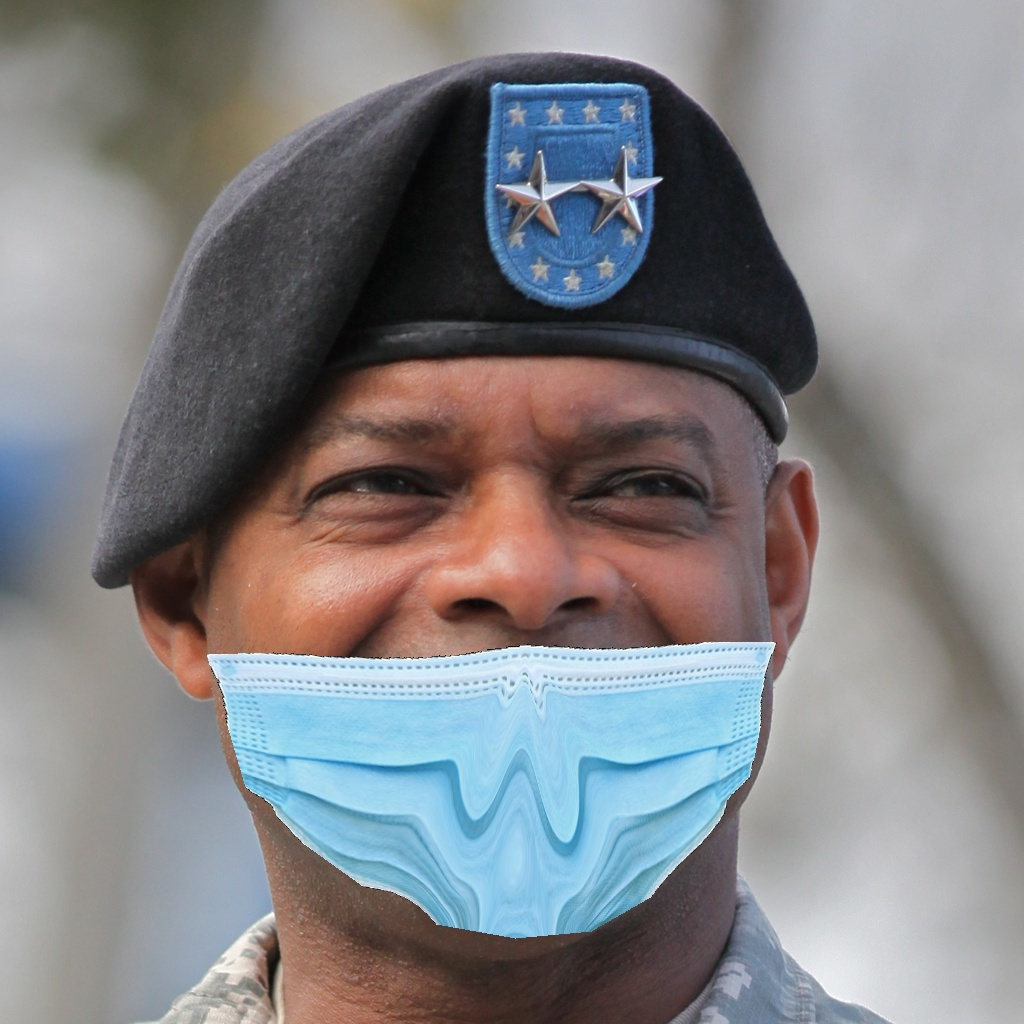mascarilla_mal_puesta: (114, 275, 884, 1000)
